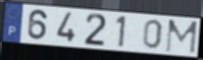0: (142, 18, 164, 51)
1: (114, 15, 129, 49)
2: (82, 12, 108, 48)
4: (55, 11, 77, 44)
6: (26, 8, 49, 41)
M: (164, 19, 199, 55)
